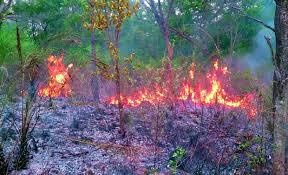fire: (36, 53, 72, 98)
